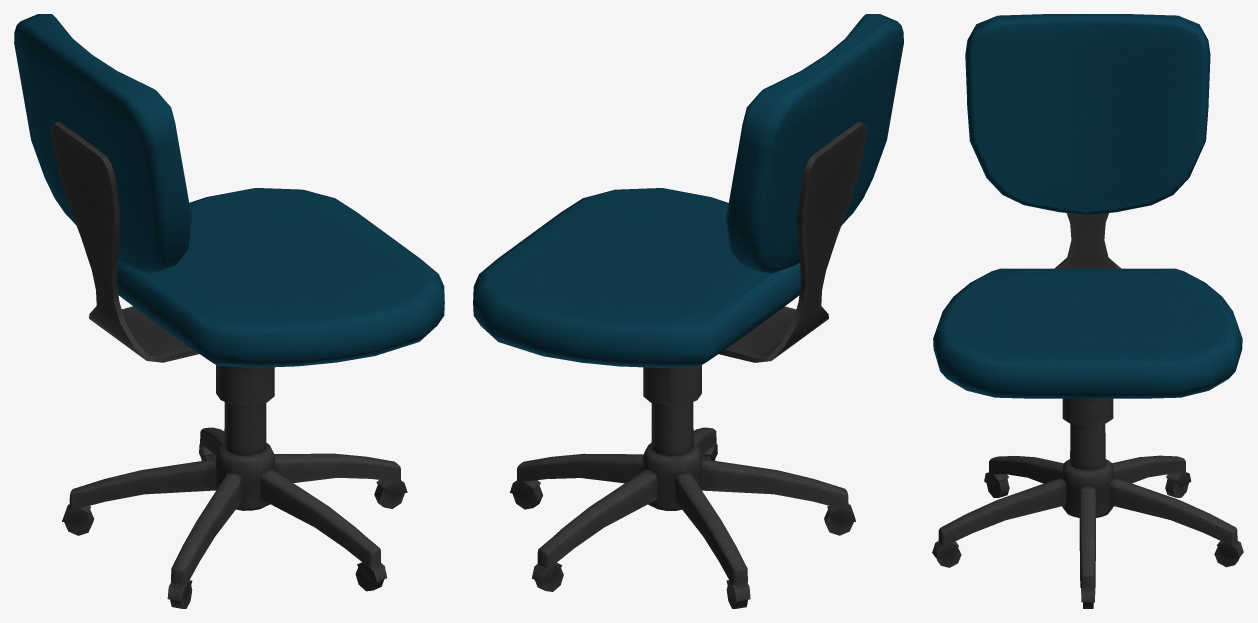
The model's file is chair-low-poly-3775963c.glb.
3 views of the same model, side by side, from view 1: azimuth 30°, elevation 25°; view 2: azimuth 150°, elevation 25°; view 3: azimuth 270°, elevation 25° (orthographic). The views are drawn at different scales.
Parts seen in each view (by area): view 1: Mesh_lambert3_0, Mesh_lambert2_0; view 2: Mesh_lambert3_0, Mesh_lambert2_0; view 3: Mesh_lambert3_0, Mesh_lambert2_0.
Part boxes in pixels (x1,y1,x2,y2): Mesh_lambert3_0: (14,14,444,367); Mesh_lambert2_0: (50,121,407,608); Mesh_lambert3_0: (473,14,903,367); Mesh_lambert2_0: (510,121,867,608); Mesh_lambert3_0: (933,14,1242,398); Mesh_lambert2_0: (932,213,1243,608).
Size of the model in its own units: 0.6309 by 0.958 by 0.584.
2 materials, 2 textured.
